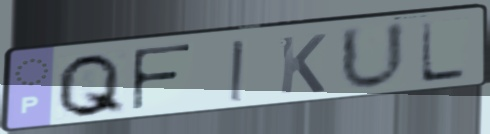F: (129, 42, 196, 115)
I: (227, 37, 248, 105)
K: (276, 31, 329, 97)
L: (416, 19, 470, 85)
Q: (52, 51, 129, 120)
U: (337, 19, 409, 94)
